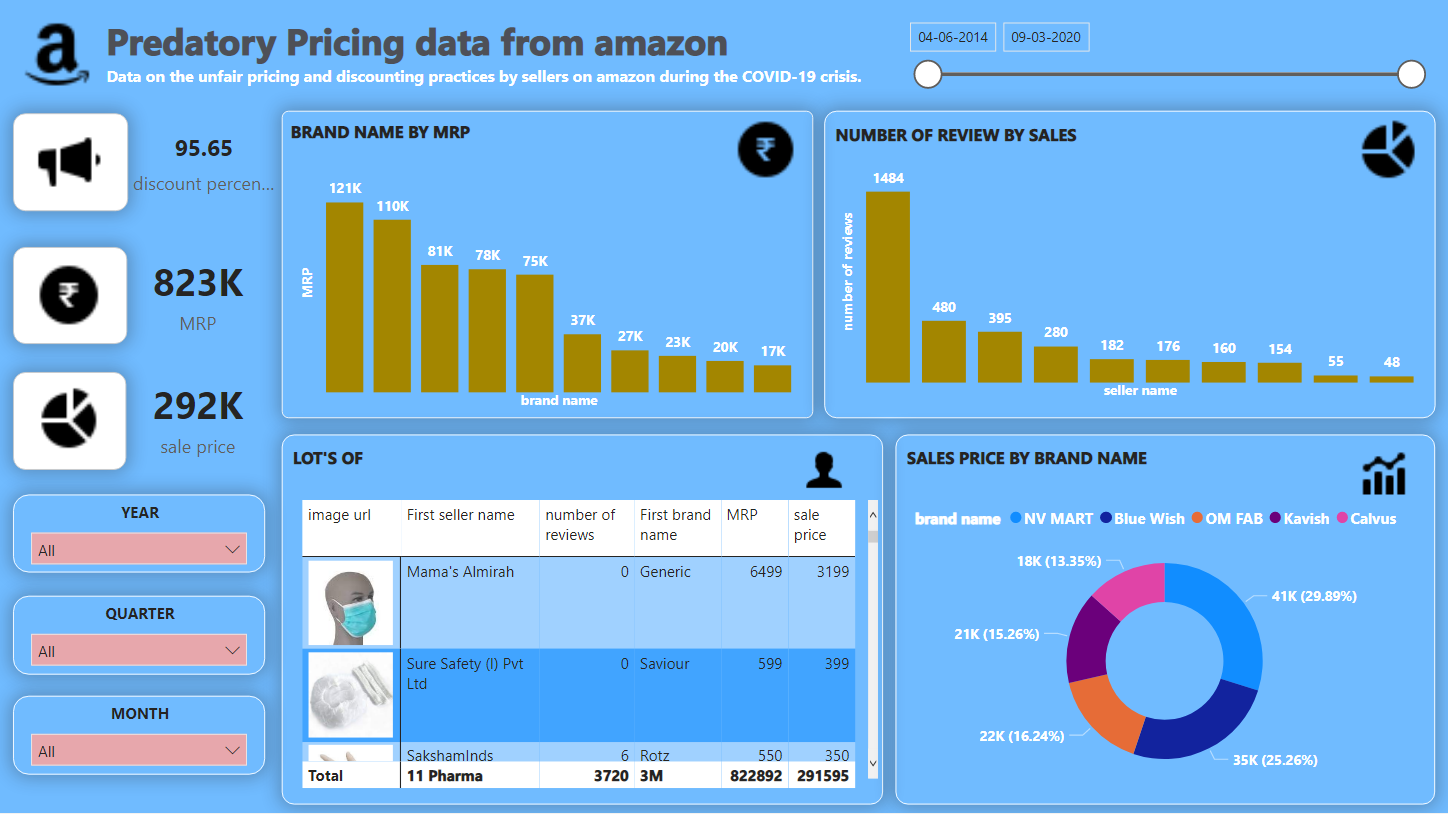

What the dashboard file says about the page in this screenshot:
{"tool":"powerbi","page":{"name":"Page 1","canvas":[1280,720],"ordinal":0},"visuals":[{"type":"textbox","box":[13,102.3,101.2,86.1],"z":0},{"type":"textbox","box":[13.2,220,101.1,85.8],"z":1000},{"type":"textbox","box":[13,330.4,100.1,86.1],"z":2000},{"type":"image","box":[12.8,11.6,78,74.5],"z":3000},{"type":"image","box":[13,338.6,97.7,69.8],"z":4000},{"type":"textbox","box":[90.4,12.1,650.5,54],"z":5000},{"type":"textbox","box":[90.4,55.1,701.3,33.1],"z":6000},{"type":"image","box":[17.9,111.4,89.6,68.1],"z":7000},{"type":"image","box":[17.9,226.1,89.6,74.1],"z":8000},{"type":"card","title":"sales","fields":{"Values":["Sum(amazon-final.sale price)"]},"box":[114,327.9,125.8,85.8],"z":9000},{"type":"card","title":"MRP","fields":{"Values":["Sum(amazon-final.MRP)"]},"box":[114,219.8,125.8,85.8],"z":10000},{"type":"card","title":"discount","fields":{"Values":["Sum(amazon-final.discount percentage)"]},"box":[114,102.4,136.1,86.1],"z":11000},{"type":"textbox","box":[250.4,99.9,469,271.5],"z":12000},{"type":"columnChart","fields":{"Category":["amazon-final.brand name"],"Y":["Sum(amazon-final.MRP)"]},"box":[263.3,141,441.9,226.9],"z":13000},{"type":"image","box":[640,98.9,74.5,71],"z":14000},{"type":"textbox","box":[728.7,99.9,539.5,271.5],"z":15000},{"type":"clusteredColumnChart","fields":{"Category":["amazon-final.seller name"],"Y":["Sum(amazon-final.number of reviews)"]},"box":[740.1,130.3,514.3,229.2],"z":16000},{"type":"image","box":[1191.6,102.4,68.7,67.5],"z":17000},{"type":"slicer","title":"YEAR","fields":{"Values":["amazon-final.date first available.Variation.Date Hierarchy.Year"]},"box":[12.8,438.7,222.3,68.7],"z":18000},{"type":"textbox","box":[250.4,385.5,530.1,326.8],"z":19000},{"type":"pivotTable","fields":{"Rows":["amazon-final.image url"],"Values":["Min(amazon-final.seller name)","Sum(amazon-final.number of reviews)","Min(amazon-final.brand name)","Sum(amazon-final.MRP)","Sum(amazon-final.sale price)"]},"box":[263,438.7,517.8,264.1],"z":20000},{"type":"textbox","box":[792.2,385.5,476,326.8],"z":21000},{"type":"donutChart","fields":{"Y":["Sum(amazon-final.sale price)"],"Category":["amazon-final.brand name"]},"box":[804.1,438.7,450.3,264.1],"z":22000},{"type":"slicer","title":"QUARTER","fields":{"Values":["amazon-final.date first available.Variation.Date Hierarchy.Quarter"]},"box":[12.8,528.3,222.3,69.8],"z":23000},{"type":"slicer","title":"MONTH","fields":{"Values":["amazon-final.date first available.Variation.Date Hierarchy.Month"]},"box":[12.8,616.7,222.3,69.8],"z":24000},{"type":"slicer","fields":{"Values":["amazon-final.date first available"]},"box":[792.2,11.8,476,74],"z":25000},{"type":"image","box":[685.4,392.1,86.1,48.9],"z":26000},{"type":"image","box":[1185.7,389.8,74.5,60.5],"z":27000}]}

Visuals, with their boxes in screenshot pixels (x1, y1, x2, y2), scaled from the page's 1280x720 canvas onto the 1448x814 screenshot:
textbox: crop(15, 116, 129, 213)
textbox: crop(15, 249, 129, 346)
textbox: crop(15, 374, 128, 471)
image: crop(14, 13, 103, 97)
image: crop(15, 383, 125, 462)
textbox: crop(102, 14, 838, 75)
textbox: crop(102, 62, 896, 100)
image: crop(20, 126, 122, 203)
image: crop(20, 256, 122, 339)
"sales" card: crop(129, 371, 271, 468)
"MRP" card: crop(129, 248, 271, 345)
"discount" card: crop(129, 116, 283, 213)
textbox: crop(283, 113, 814, 420)
columnChart - amazon-final.brand name x Sum(amazon-final.MRP): crop(298, 159, 798, 416)
image: crop(724, 112, 808, 192)
textbox: crop(824, 113, 1435, 420)
clusteredColumnChart - amazon-final.seller name x Sum(amazon-final.number of reviews): crop(837, 147, 1419, 406)
image: crop(1348, 116, 1426, 192)
"YEAR" slicer: crop(14, 496, 266, 574)
textbox: crop(283, 436, 883, 805)
pivotTable - amazon-final.image url x Min(amazon-final.seller name): crop(298, 496, 883, 795)
textbox: crop(896, 436, 1435, 805)
donutChart - Sum(amazon-final.sale price) x amazon-final.brand name: crop(910, 496, 1419, 795)
"QUARTER" slicer: crop(14, 597, 266, 676)
"MONTH" slicer: crop(14, 697, 266, 776)
slicer - amazon-final.date first available: crop(896, 13, 1435, 97)
image: crop(775, 443, 873, 499)
image: crop(1341, 441, 1426, 509)
